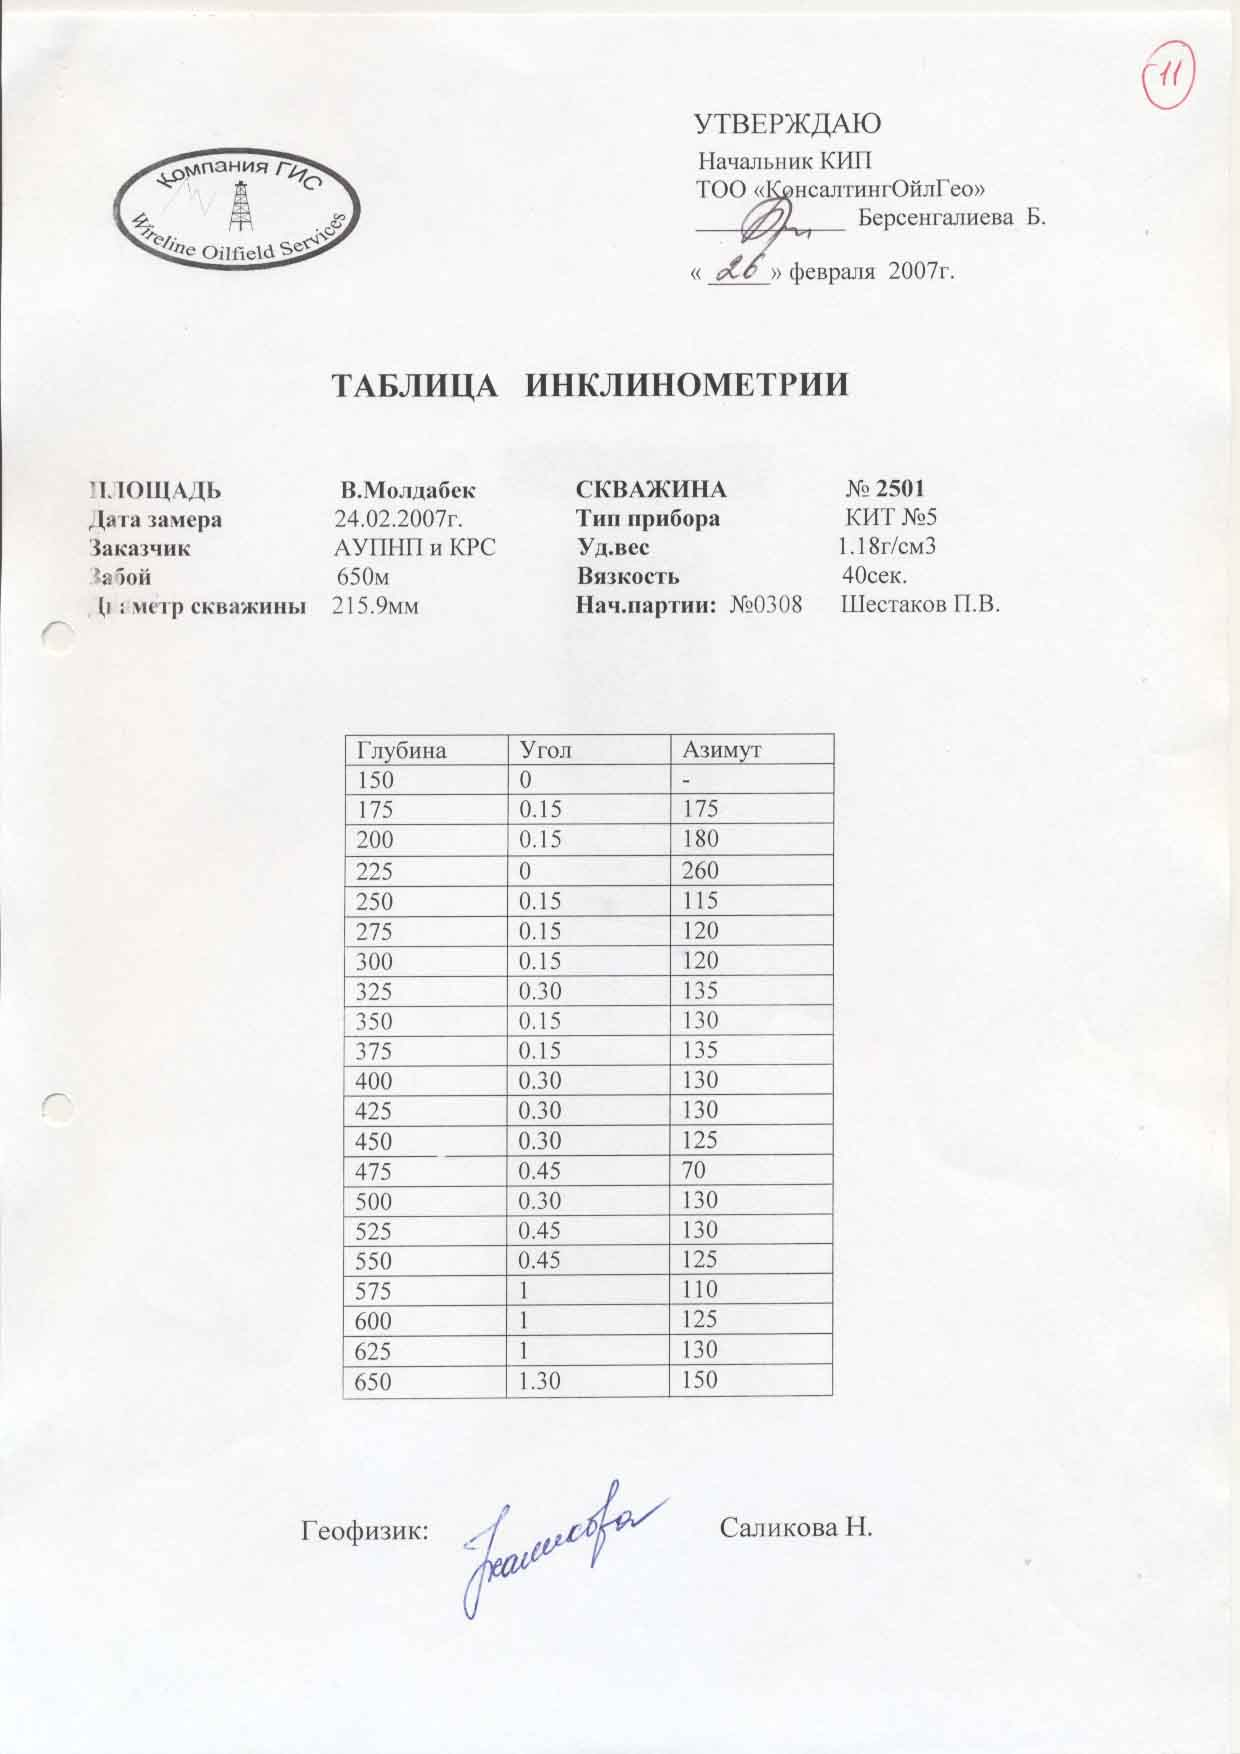Bordered: (348, 731, 839, 1402)
